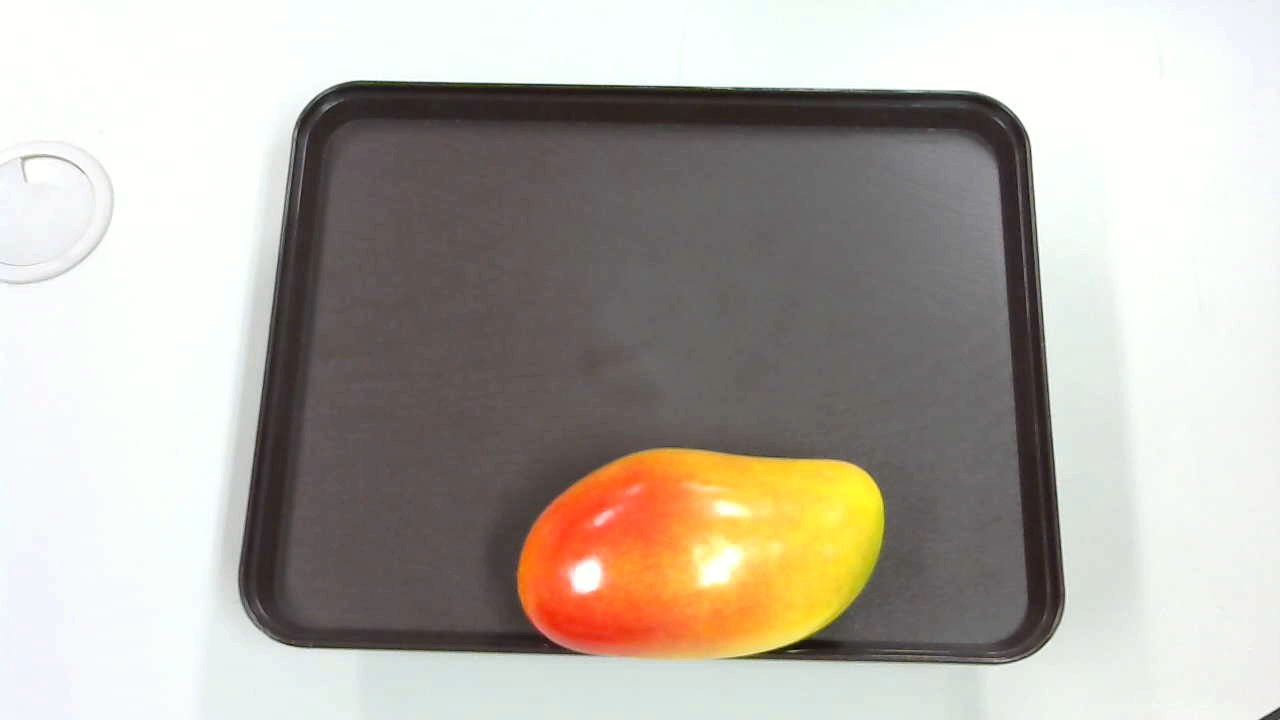red mango: (507, 437, 891, 669)
